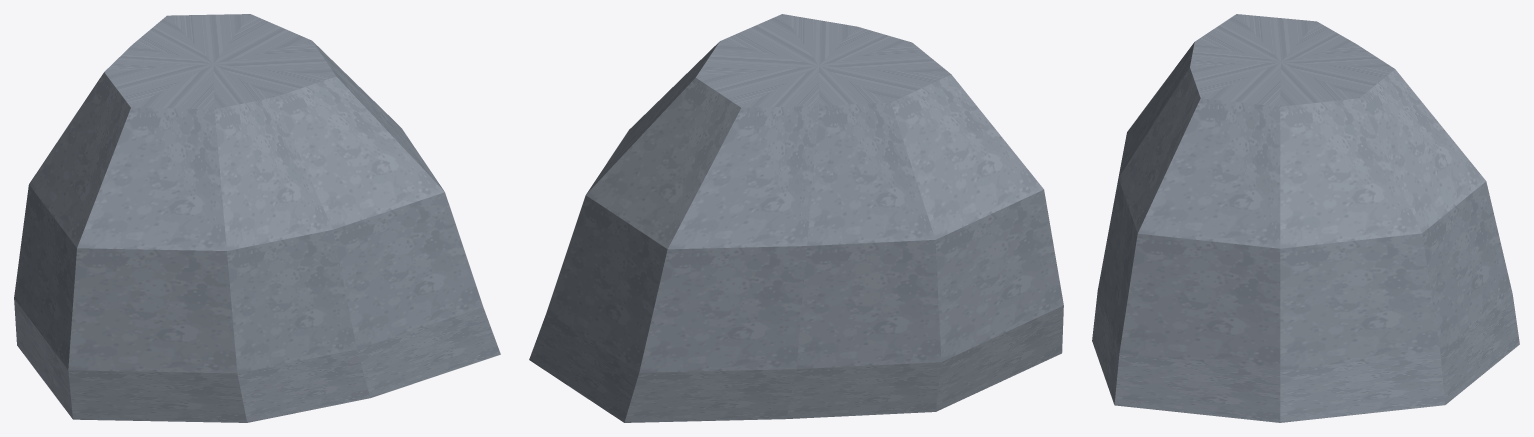
Rendered from showcase_boulder.glb.
3 renders of one model, left to right at view 1: azimuth 30°, elevation 25°; view 2: azimuth 150°, elevation 25°; view 3: azimuth 270°, elevation 25°, orthographic. The views are drawn at different scales.
Visible parts, largest first — view 1: outdoor_showcase_boulder; view 2: outdoor_showcase_boulder; view 3: outdoor_showcase_boulder.
Boxes of the visible parts, left/top/right/bottom form: outdoor_showcase_boulder: left=14, top=14, right=500, bottom=422; outdoor_showcase_boulder: left=529, top=14, right=1063, bottom=422; outdoor_showcase_boulder: left=1092, top=14, right=1519, bottom=422.
Size of the model in its own units: 1.4 by 0.85 by 1.3.
Materials: 1 (1 with a texture image).
